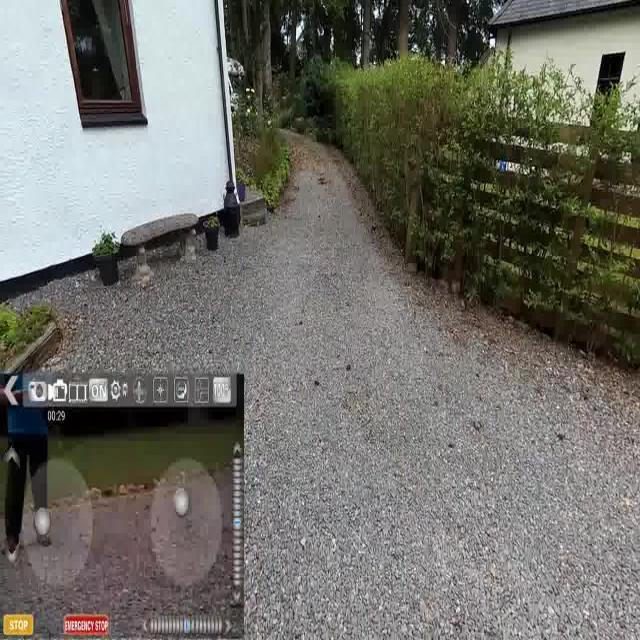drones: (317, 170, 330, 189)
